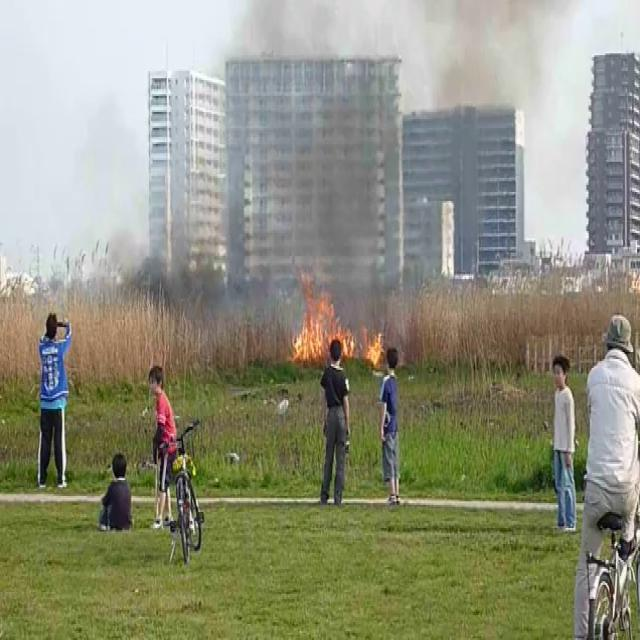Fire: (290, 272, 385, 368)
Smoke: (126, 0, 548, 316)
